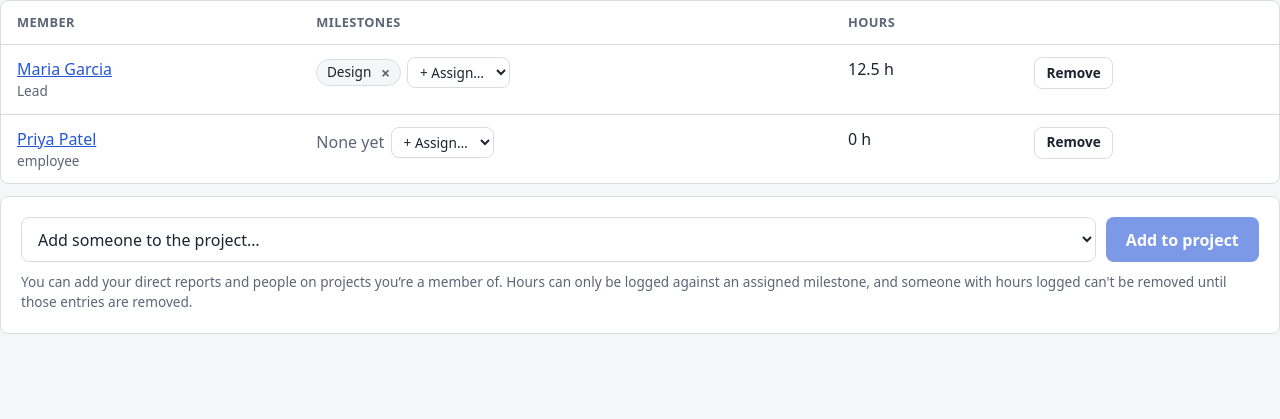
Test: TeamManager add member › falls back to the error message when there is no field error
This screenshot has width=1280, height=419.
Select "Tom Nguyen" in the dropdown named "Add someone to the project" at (559, 240), box top-left (21, 217), bottom-right (1096, 262)
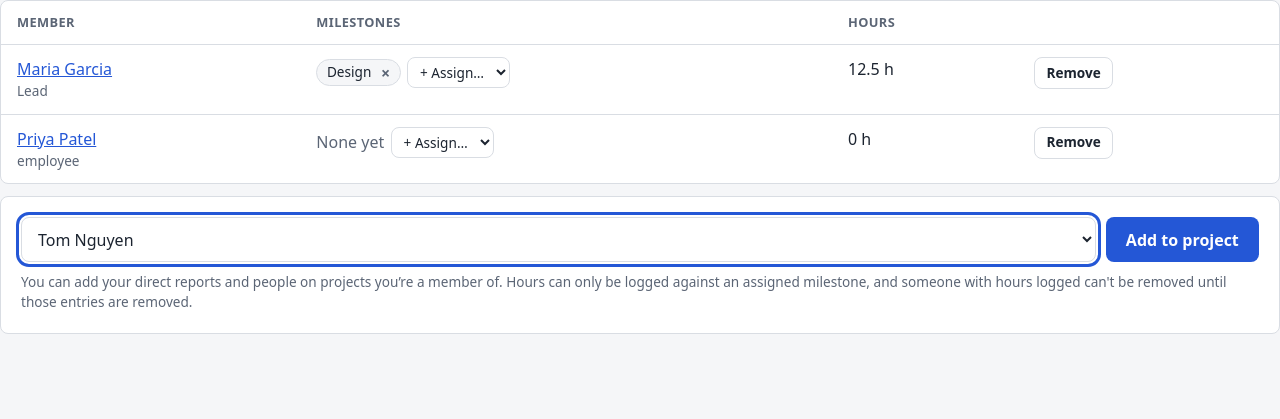
Click the button "Add to project".
click(1182, 240)  # box top-left (1106, 217), bottom-right (1259, 262)
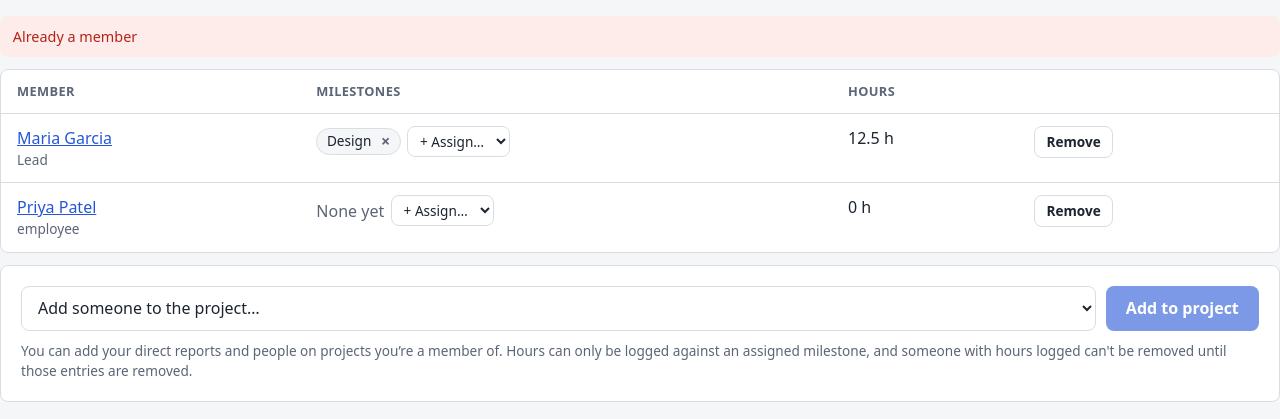
Now the message reads "Already a member", box top-left (13, 27), bottom-right (137, 46)
